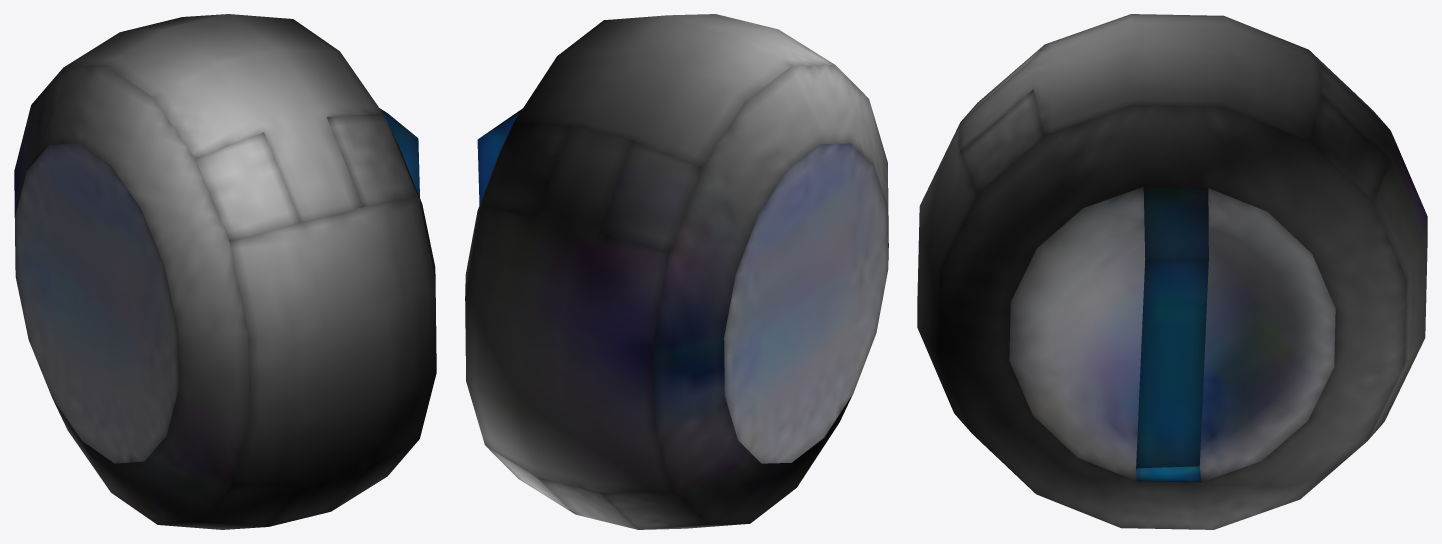
File: frontleft1.obj
3 views of the same model, side by side, from view 1: azimuth 30°, elevation 25°; view 2: azimuth 150°, elevation 25°; view 3: azimuth 270°, elevation 25° (orthographic).
Visible parts, largest first — view 1: Object014; view 2: Object014; view 3: Object014.
Part boxes in pixels (x1,y1,x2,y2): Object014: (14,14,436,529); Object014: (465,14,888,529); Object014: (917,14,1427,529).
Bounding box in the file's own units: 5.4 × 7.73 × 7.73.
Materials: 1 (1 with a texture image).
